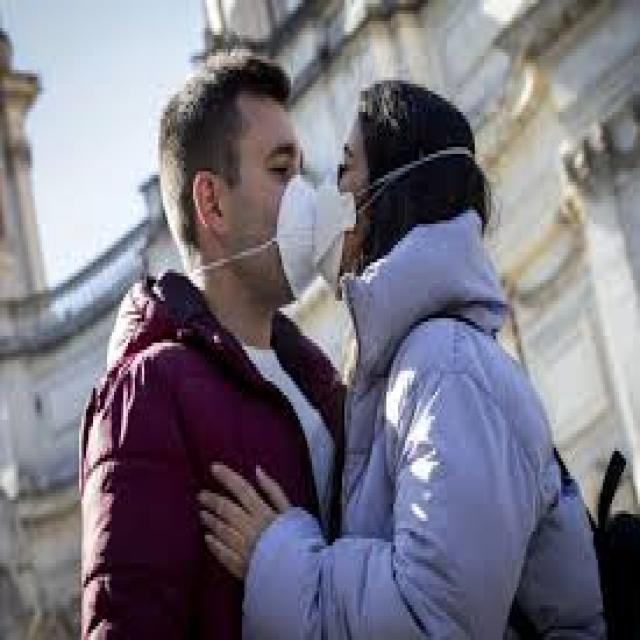mask: (159, 51, 321, 330), (326, 70, 467, 380)
